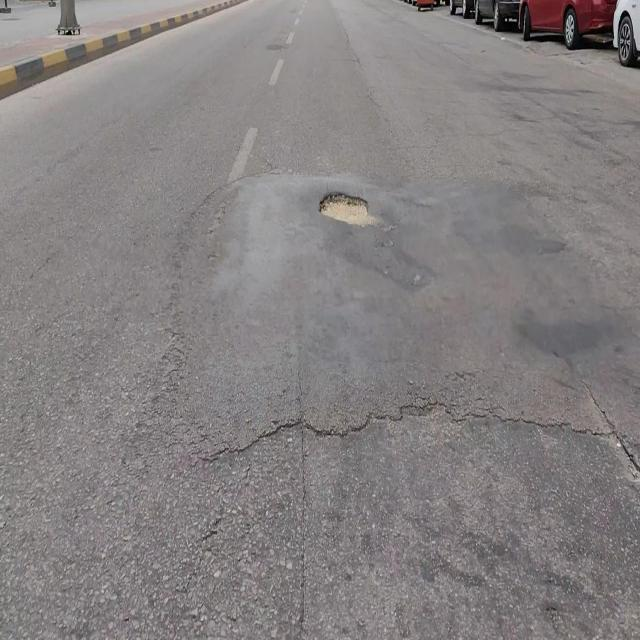Pothole: (320, 190, 369, 230)
